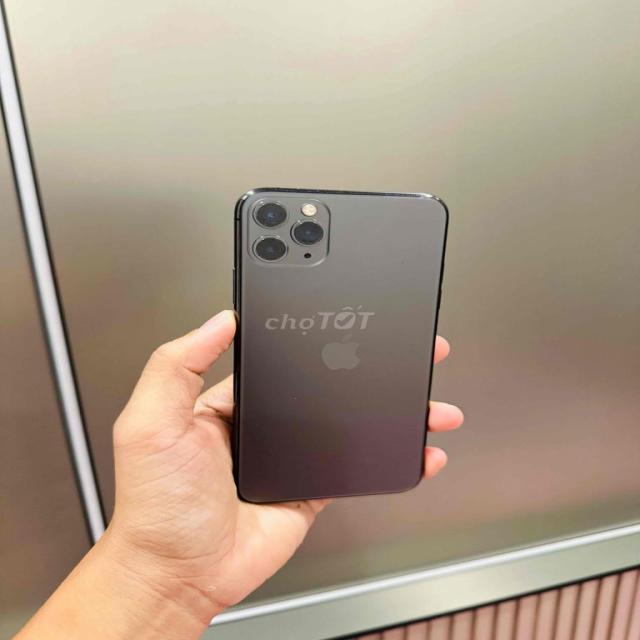scratch: (392, 192, 440, 206), (286, 386, 308, 412)
